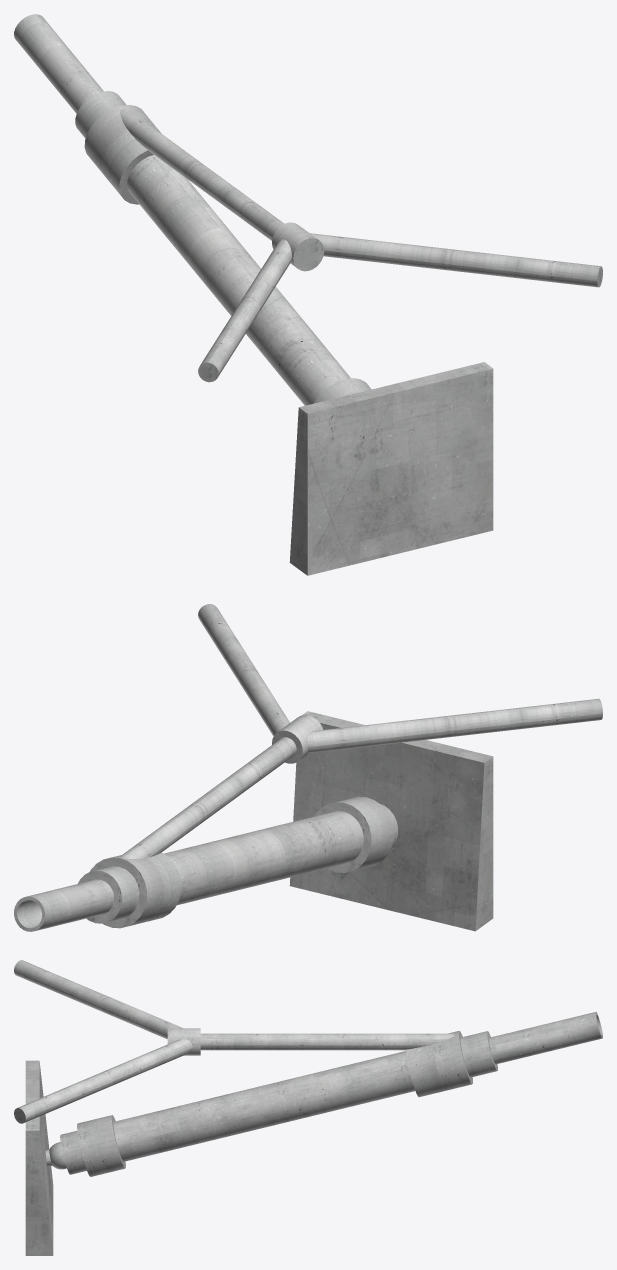
Rendered from MortarMax.dae.
3 views of the same model, one above another, from view 1: azimuth 30°, elevation 25°; view 2: azimuth 150°, elevation 25°; view 3: azimuth 270°, elevation 25° (orthographic). The views are drawn at different scales.
Parts seen in each view (by area): view 1: group_1, group_10 (×2), group_8, group_6, group_12, group_7, group_9, group_11; view 2: group_1, group_10 (×3), group_7, group_6, group_12, group_8, group_11, group_9; view 3: group_10 (×2), group_1, group_6, group_8, group_7, group_12, group_11, group_9.
Boxes of the visible parts, x1,y1,x2,y2 form: group_1: [289, 362, 493, 575]; group_10 (×2): [14, 14, 350, 405]; group_8: [310, 233, 602, 287]; group_6: [120, 109, 284, 240]; group_12: [84, 105, 161, 204]; group_7: [198, 239, 292, 382]; group_9: [272, 222, 324, 271]; group_11: [313, 378, 371, 403]; group_1: [289, 711, 493, 931]; group_10 (×3): [14, 803, 398, 931]; group_7: [307, 698, 602, 752]; group_6: [120, 737, 296, 858]; group_12: [90, 852, 181, 928]; group_8: [198, 604, 289, 735]; group_11: [314, 796, 393, 872]; group_9: [272, 715, 323, 763]; group_10 (×2): [60, 1012, 602, 1174]; group_1: [25, 1060, 53, 1255]; group_6: [200, 1033, 454, 1050]; group_8: [14, 1039, 192, 1123]; group_7: [14, 960, 182, 1039]; group_12: [405, 1031, 472, 1097]; group_11: [77, 1115, 125, 1176]; group_9: [167, 1028, 200, 1055].
Bounding box in the file's own units: 25.75 × 41.95 × 16.33.
Materials: 1 (1 with a texture image).
